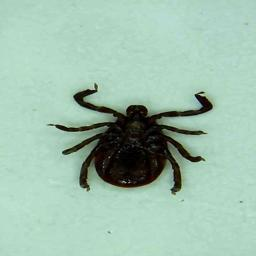Ixodes scapularis: (47, 84, 213, 195)
